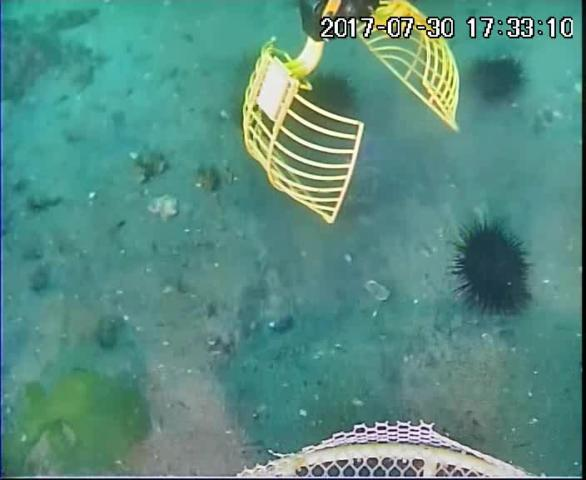echinus: (449, 218, 533, 321), (297, 70, 365, 127), (469, 54, 529, 107)
